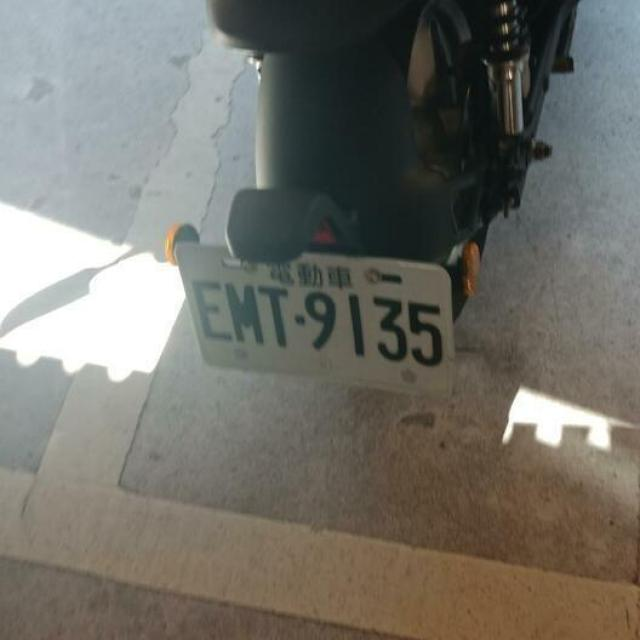W: (182, 231, 469, 411)
